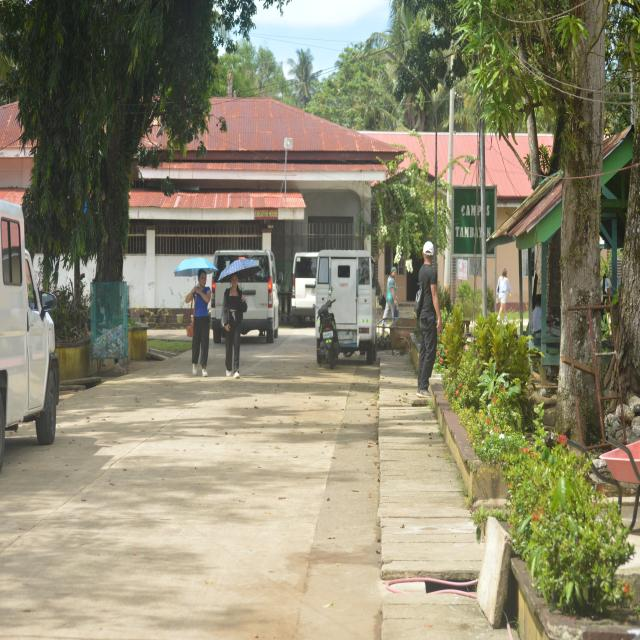person: (417, 241, 442, 397), (186, 269, 211, 377), (222, 274, 247, 378), (383, 268, 397, 321), (496, 269, 511, 318)
